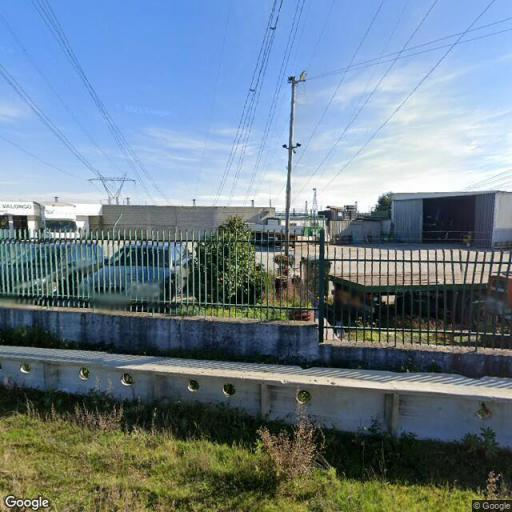wt_5: (87, 169, 138, 204)
